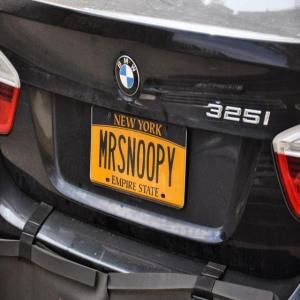Plate: (90, 105, 187, 208)
